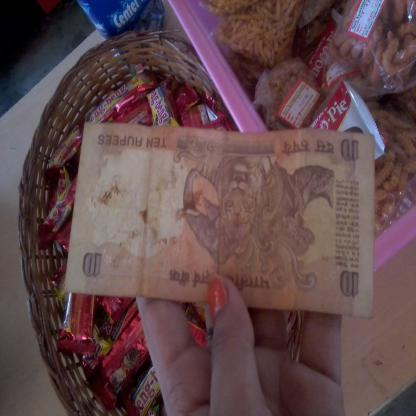Old10Back: (66, 121, 376, 319)
